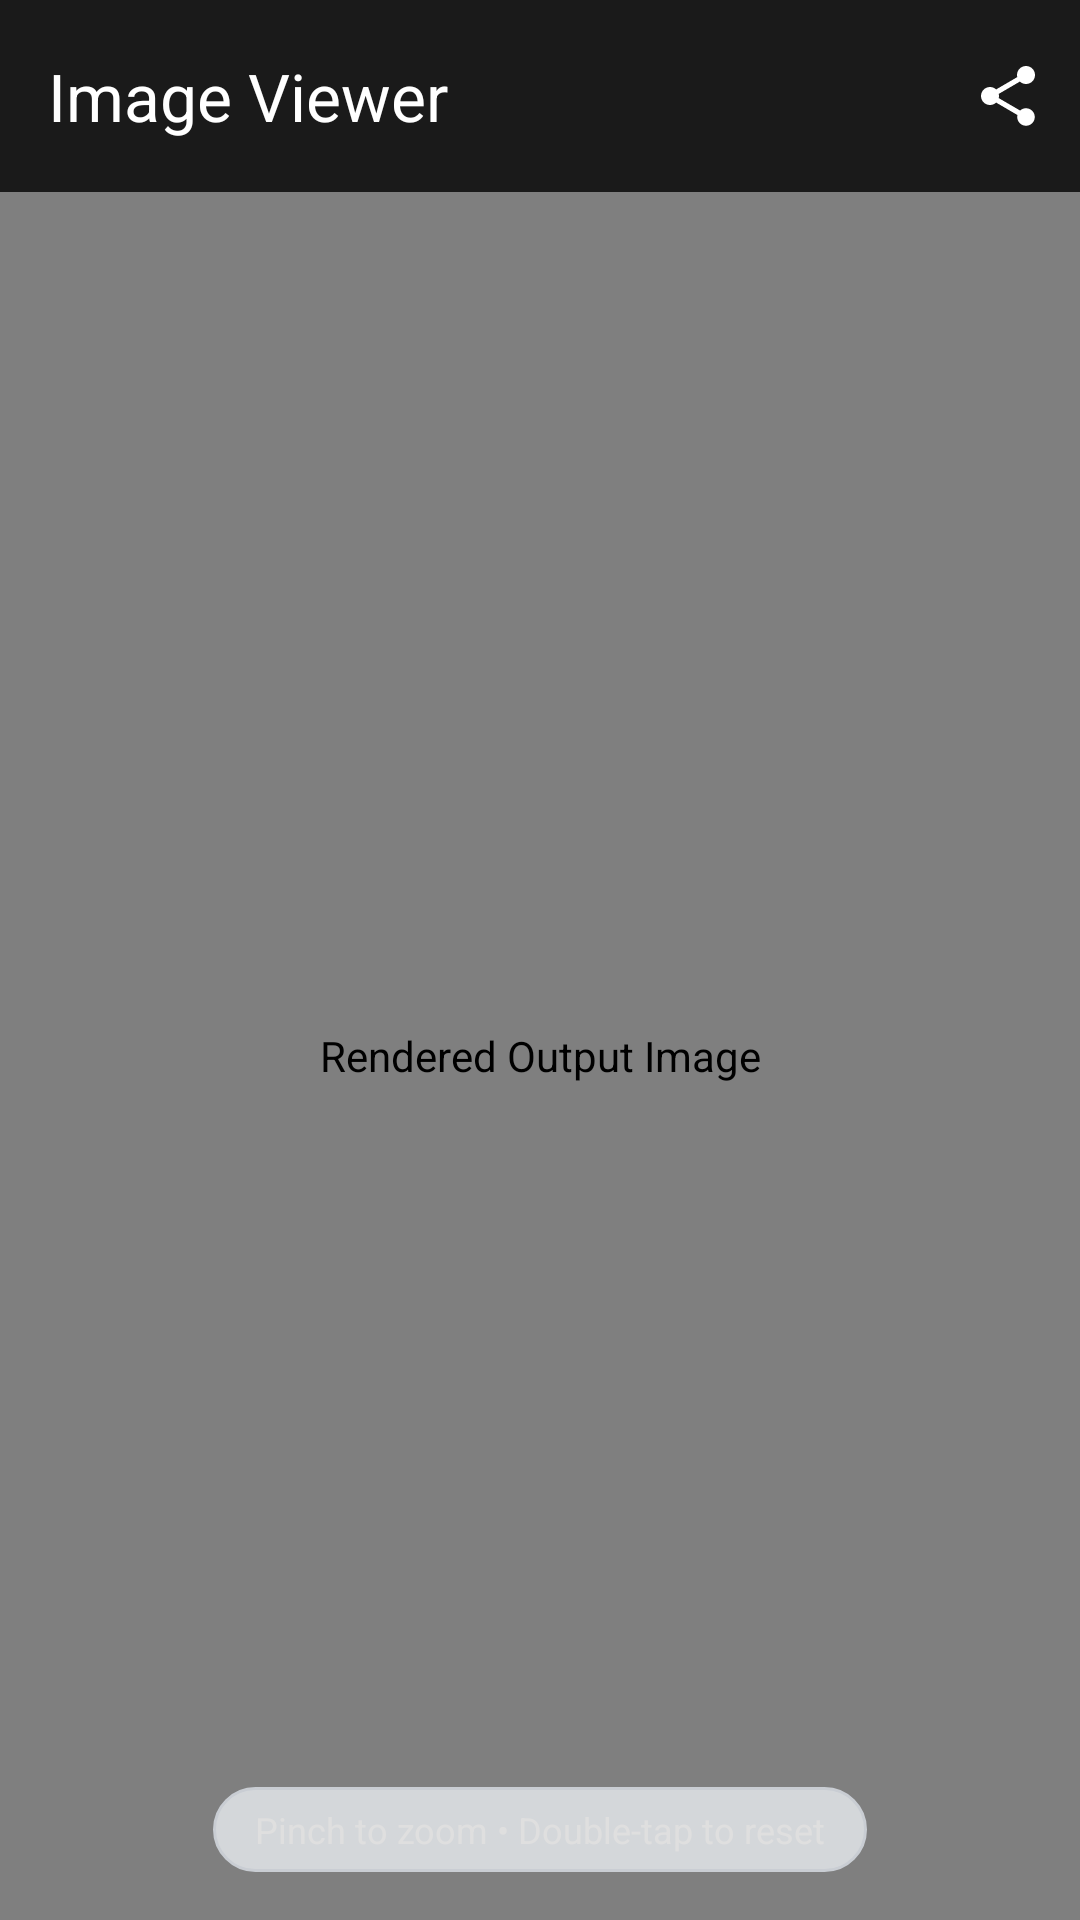

Named icons in this screenshot (1080x1920) and their centers, point (x, y):
Share: point (1008, 96)
